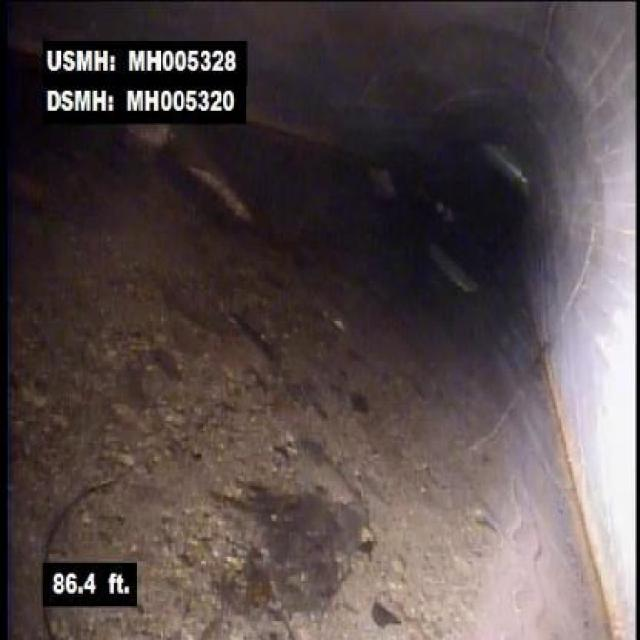Debris: (131, 125, 260, 232)
